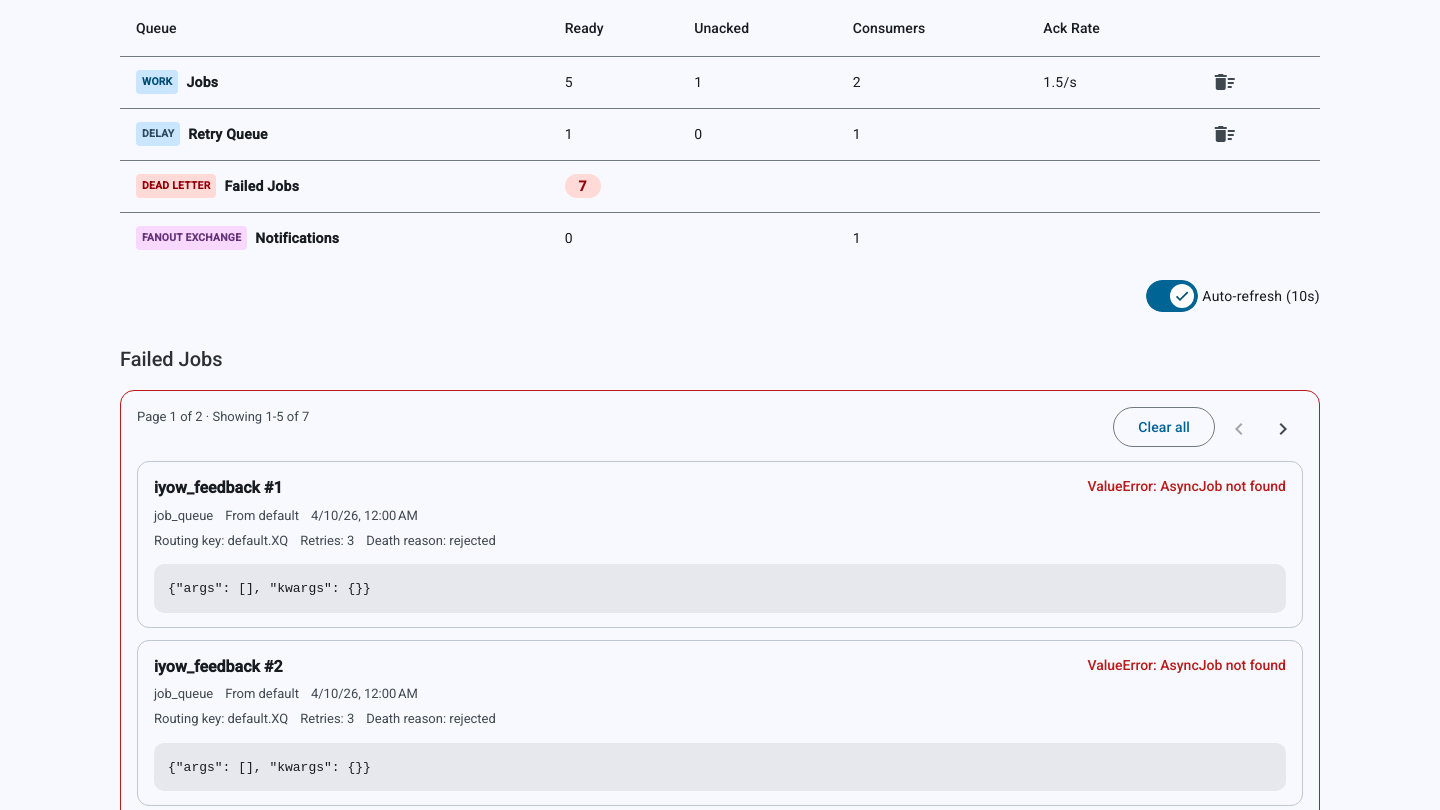
it: JobControlComponent › shows an empty preview state when a follow-up page load fails
Click the button named "Show the next dead-letter page for Failed": (1283, 427) 1263,407 -> 1303,447
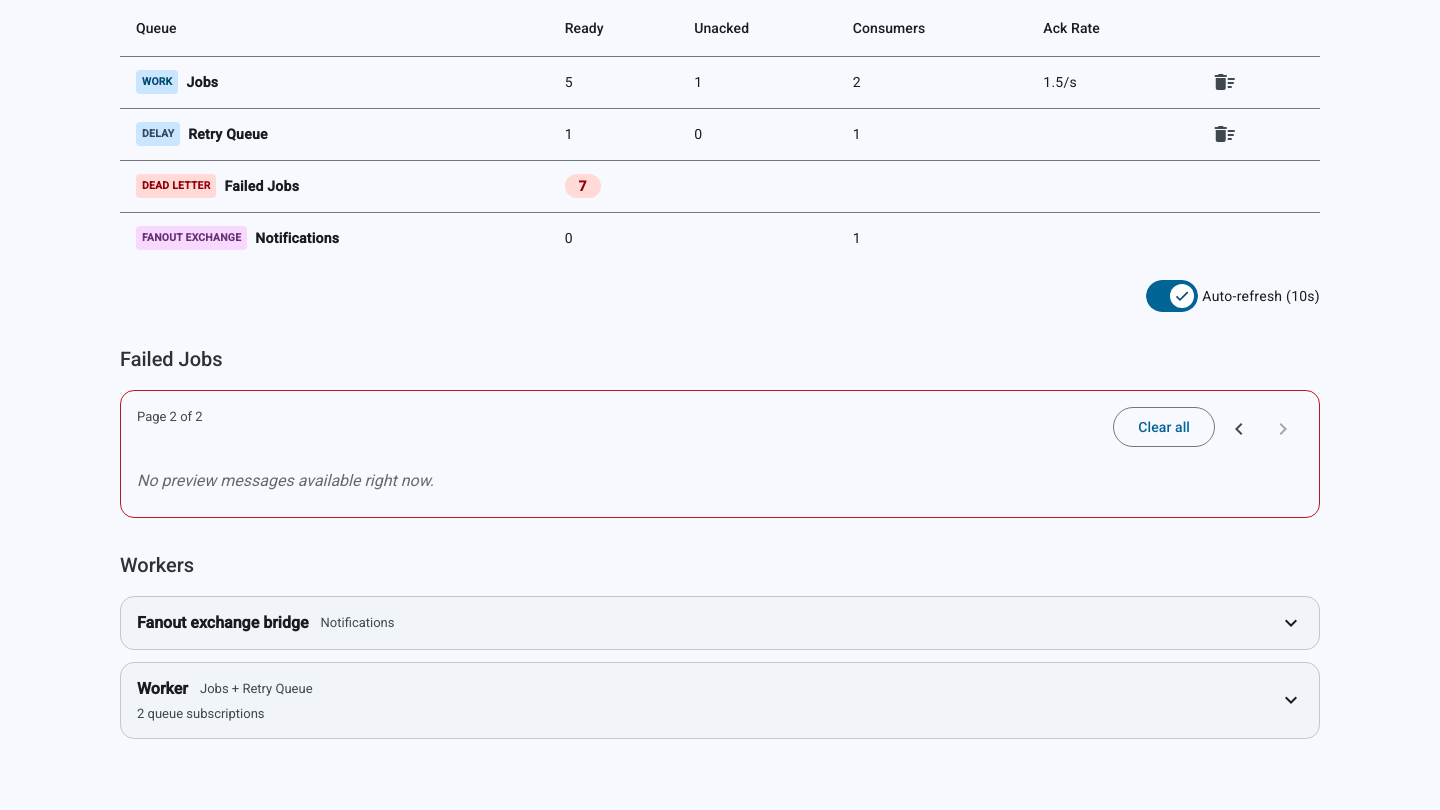
Result: the text "No preview messages available right now." is shown at 137,471 -> 434,490
